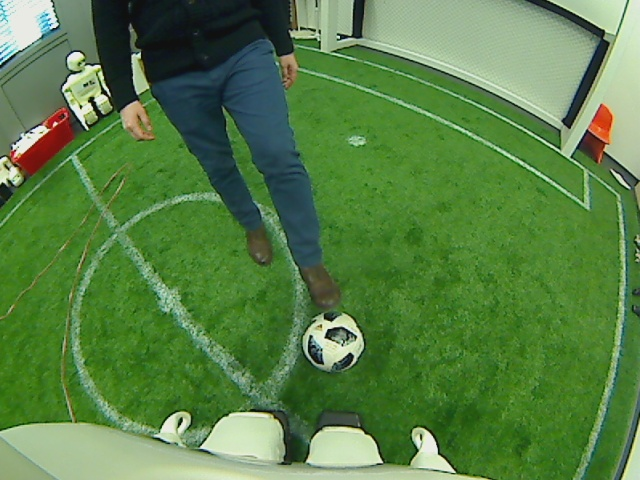ball: (302, 309, 364, 374)
